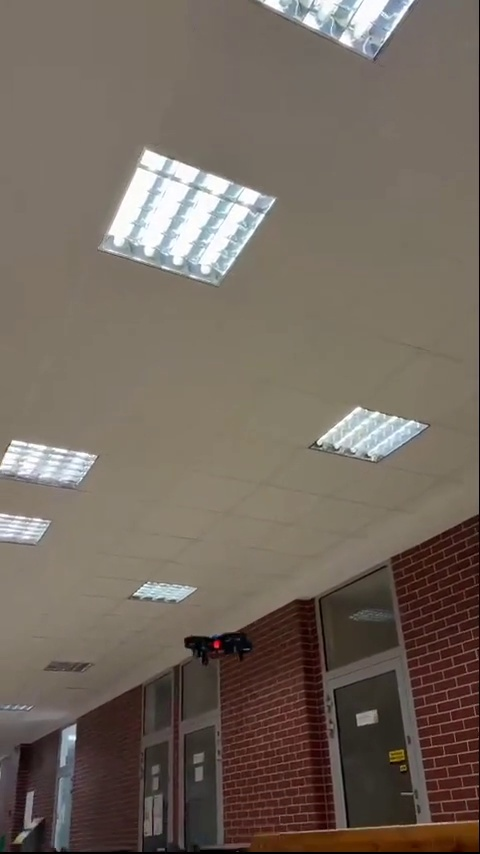drone: (182, 631, 253, 662)
